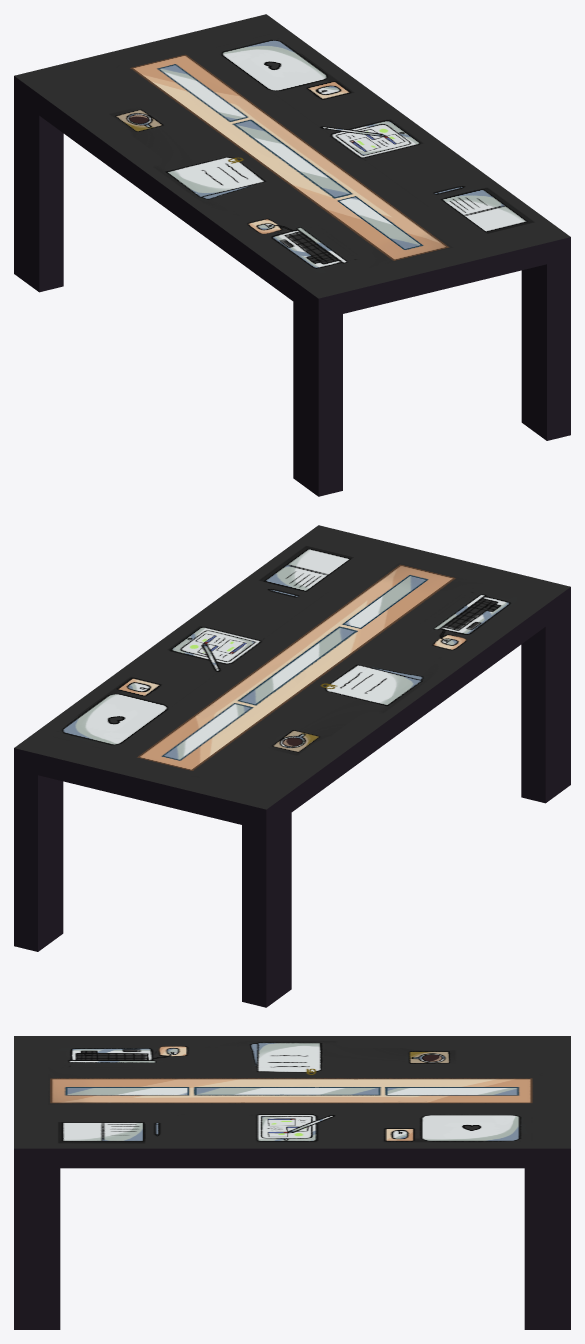
File: Conference table.fbx
The picture shows the model from 3 angles, top to bottom: view 1: azimuth 30°, elevation 25°; view 2: azimuth 150°, elevation 25°; view 3: azimuth 270°, elevation 25°; orthographic projection. The views are drawn at different scales.
Parts seen in each view (by area): view 1: Cube; view 2: Cube; view 3: Cube.
Boxes of the visible parts, bbox=[...] form: Cube: bbox=[14, 14, 570, 496]; Cube: bbox=[14, 525, 570, 1007]; Cube: bbox=[14, 1036, 570, 1329].
Size of the model in its own units: 647 by 485 by 1351.
